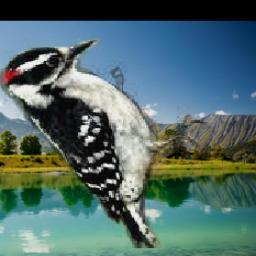Woodpecker: (0, 39, 221, 249)
